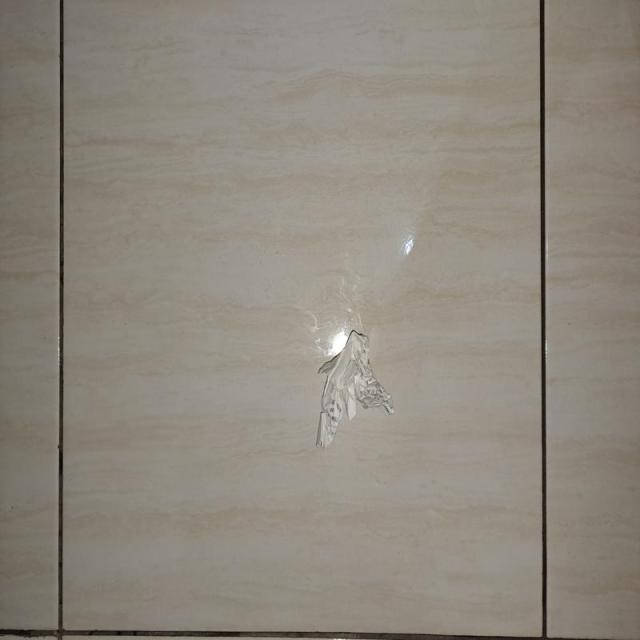Organik: (315, 327, 404, 452)
